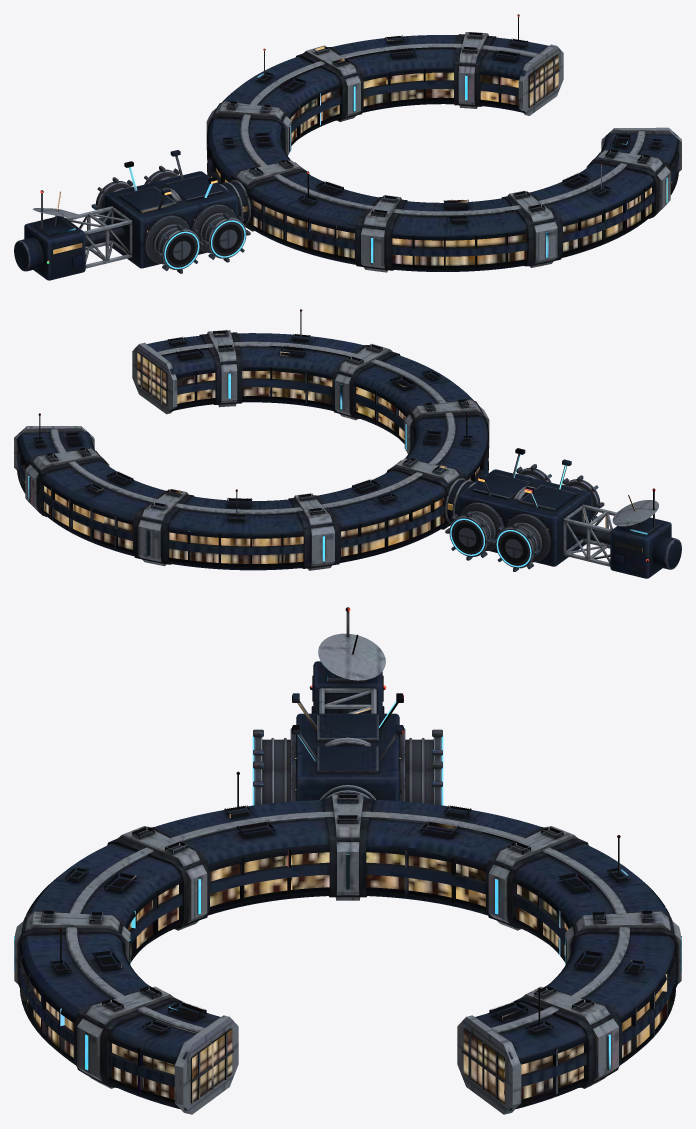
Rendered from station-titan-dock.glb.
3 renders of one model, top to bottom at view 1: azimuth 30°, elevation 25°; view 2: azimuth 150°, elevation 25°; view 3: azimuth 270°, elevation 25°, orthographic. The views are drawn at different scales.
Visible parts, largest first — view 1: station, berth_4, berth_2, berth_3; view 2: station, berth_3, berth_1, berth_4; view 3: station, berth_1, berth_2, berth_3, berth_4.
Boxes of the visible parts, box(x1,y1,x2,y2) form: station: box(14, 14, 681, 280); berth_4: box(144, 215, 203, 273); berth_2: box(191, 204, 250, 262); berth_3: box(91, 177, 133, 221); station: box(14, 309, 681, 578); berth_3: box(492, 513, 551, 571); berth_1: box(445, 502, 504, 560); berth_4: box(562, 475, 604, 520); station: box(14, 607, 681, 1114); berth_1: box(399, 759, 443, 805); berth_2: box(252, 759, 296, 805); berth_3: box(399, 728, 443, 771); berth_4: box(252, 728, 296, 771).
Bounding box in the file's own units: 1 × 0.1434 × 0.6916.
2 materials, 2 textured.
